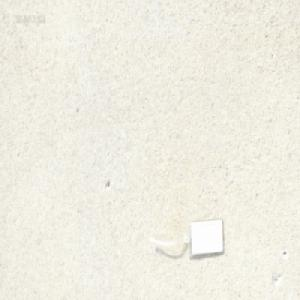LuggageTag: (148, 215, 224, 258)
